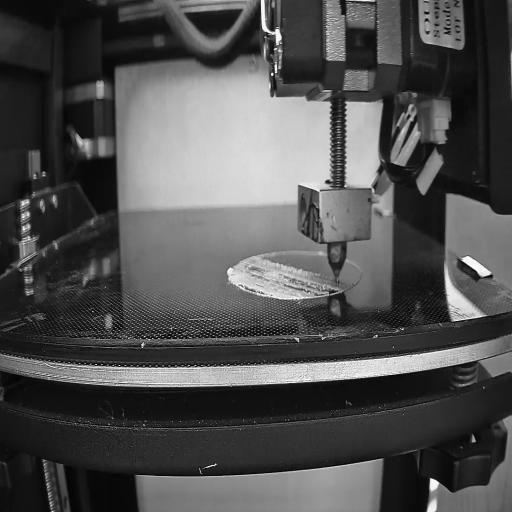under_extrusion: (278, 272, 340, 296), (241, 262, 269, 294)
